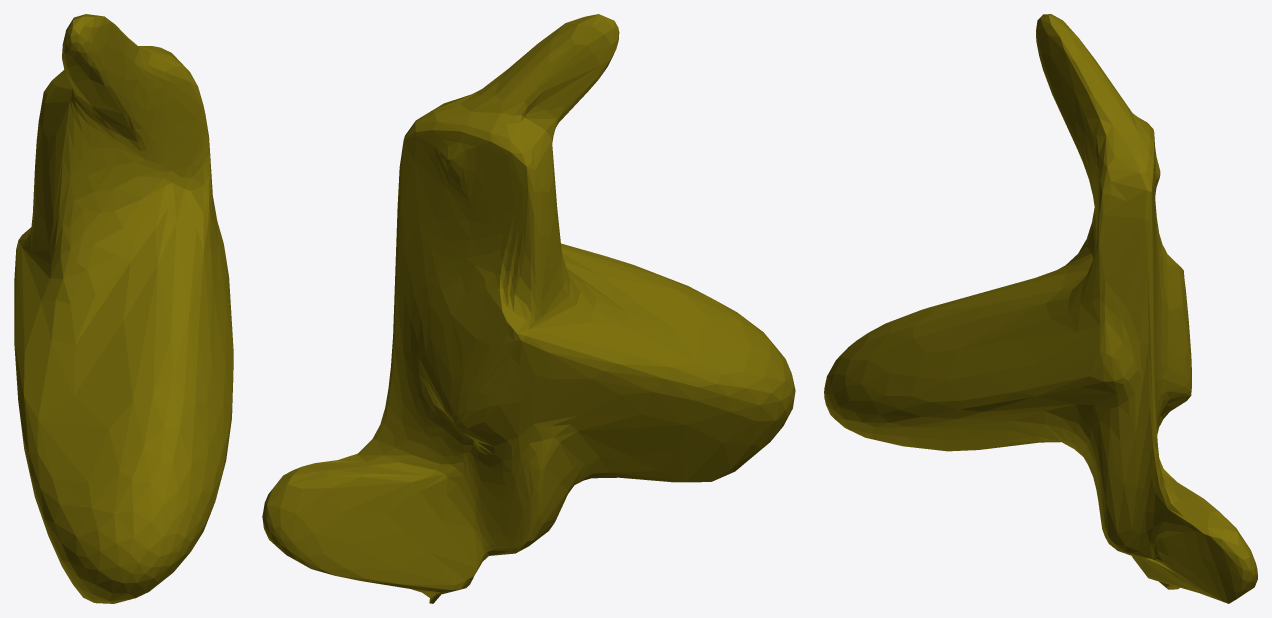
3 renders of one model, left to right at view 1: azimuth 30°, elevation 25°; view 2: azimuth 150°, elevation 25°; view 3: azimuth 270°, elevation 25°, orthographic. The views are drawn at different scales.
Parts seen in each view (by area): view 1: 612_Cube.2460; view 2: 612_Cube.2460; view 3: 612_Cube.2460.
Part boxes in pixels (x1,y1,x2,y2): 612_Cube.2460: (14,14,233,603); 612_Cube.2460: (262,14,795,603); 612_Cube.2460: (824,14,1257,603).
Size of the model in its own units: 9.87 by 15.98 by 11.87.
